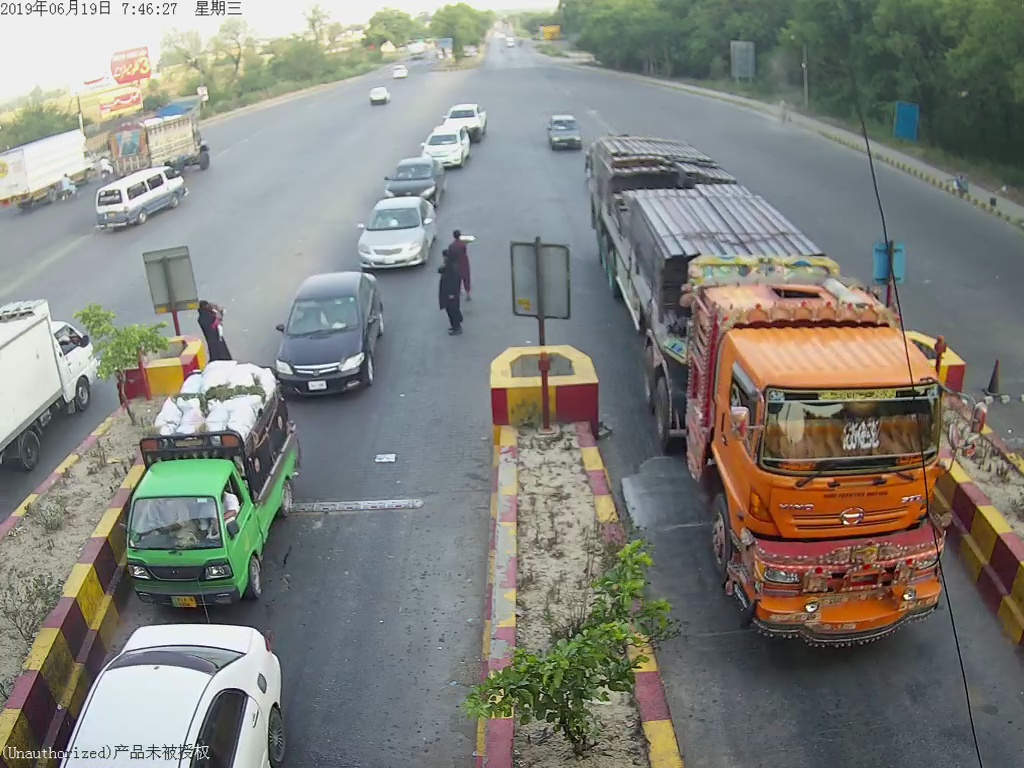Cat-1: (124, 371, 307, 588), (275, 273, 385, 395), (358, 200, 431, 263)
Cat-5: (578, 139, 955, 663)
